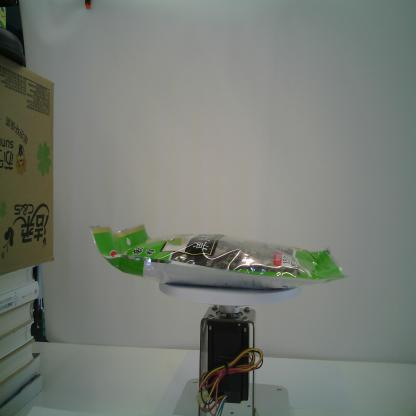Dried Food: (89, 223, 351, 289)
